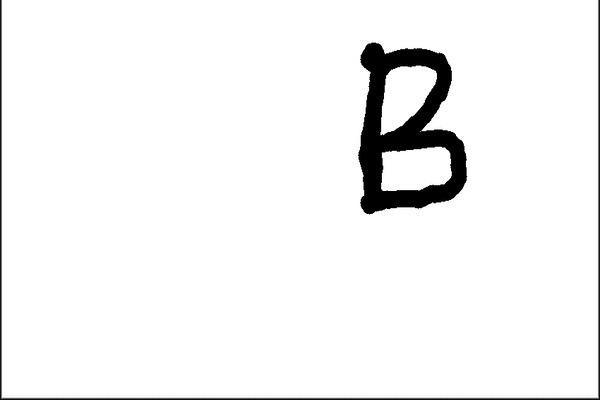B: (345, 35, 475, 216)
